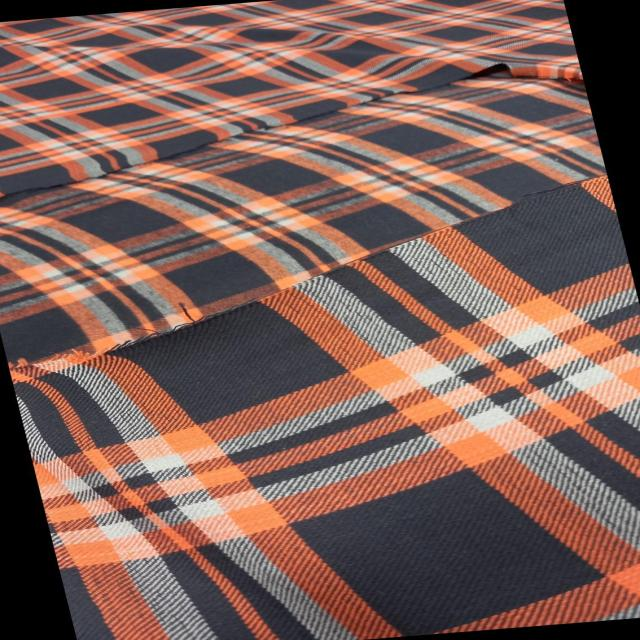cut: (0, 42, 640, 390)
